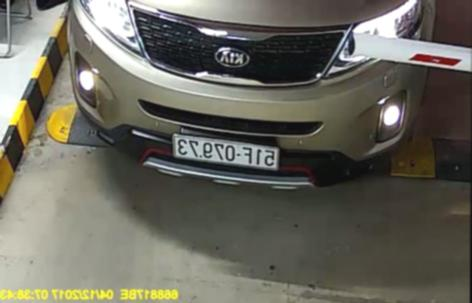License_Plate: (167, 138, 283, 169)
